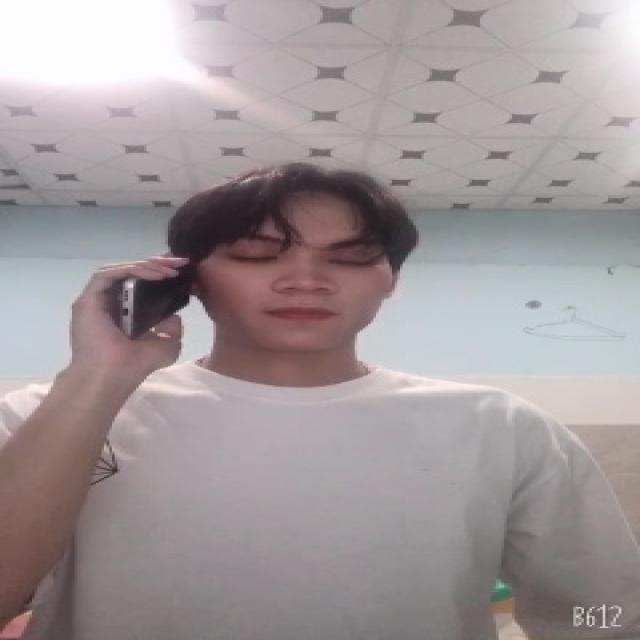Phone: (115, 255, 194, 340)
